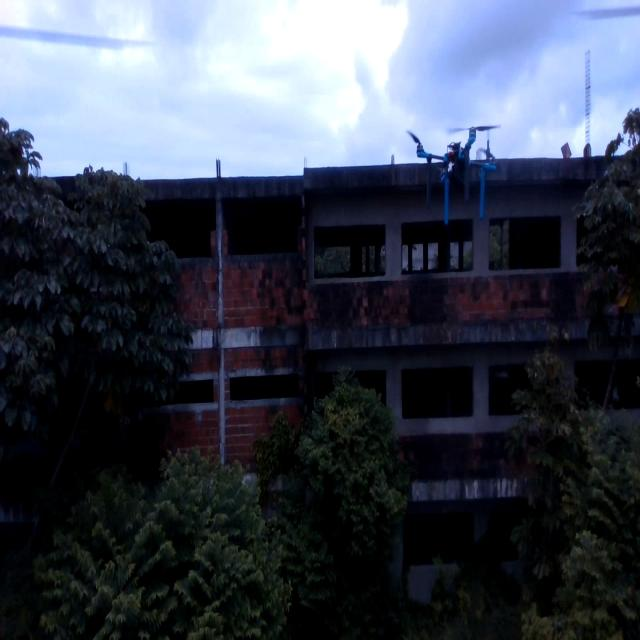-uav-: (398, 102, 502, 246)
